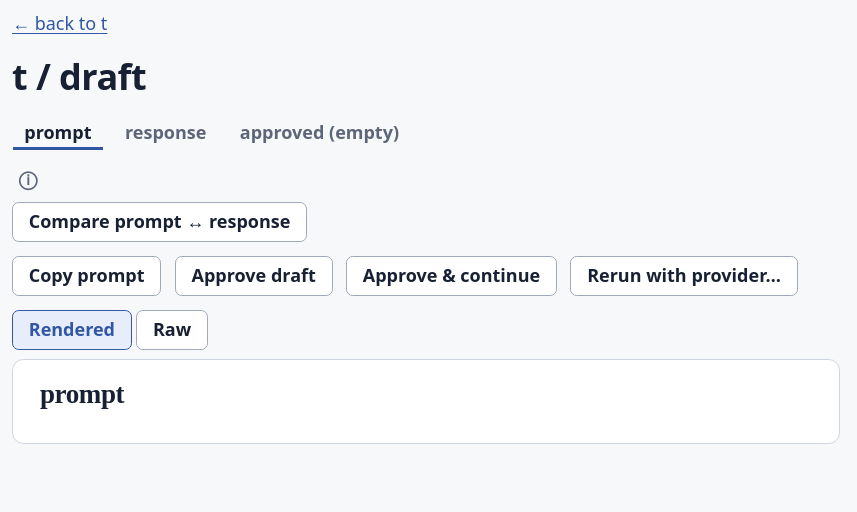
it: StageViewerPage › offers Approve & continue for the approval the run is waiting on
Click the button "Approve & continue".
click(451, 276)  # box [346,256,557,296]
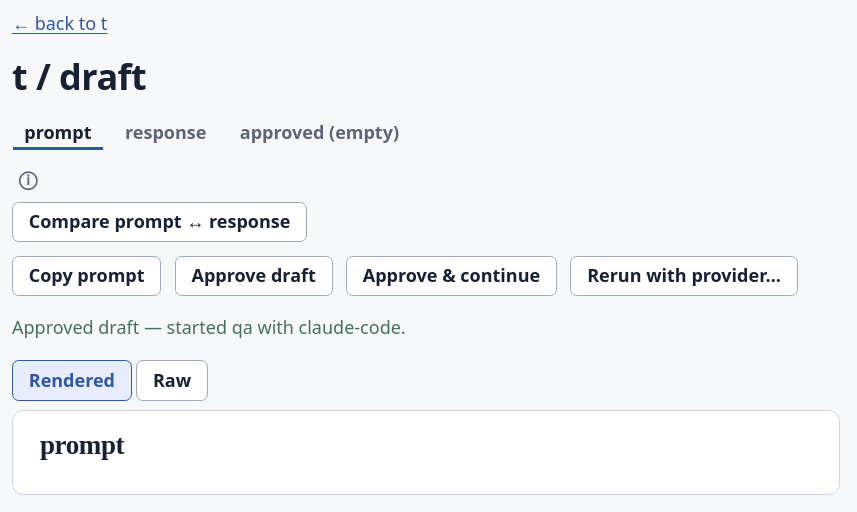
Expected: the message reads "Approved draft — started qa with claude-code.", [12,315,406,339]
